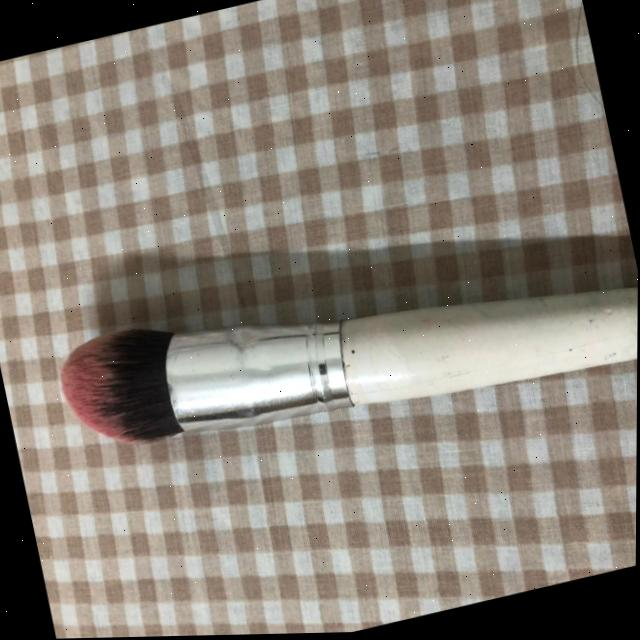brush: (25, 183, 639, 512)
